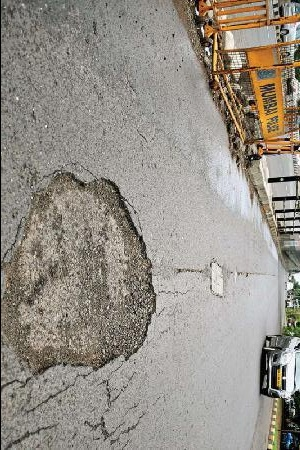pothole: (0, 166, 161, 375)
